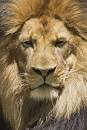lion: (2, 1, 87, 120)
